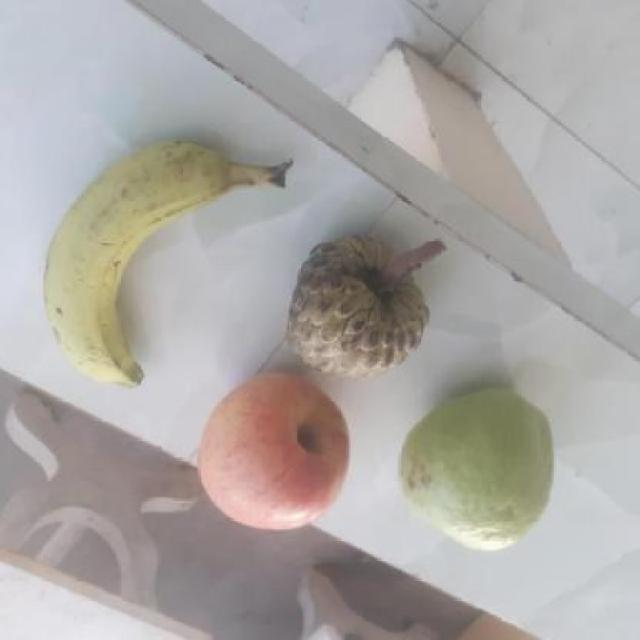apple: (189, 379, 357, 533)
banana: (43, 137, 282, 391)
guava: (406, 388, 560, 548)
sugar apple: (289, 231, 440, 378)
